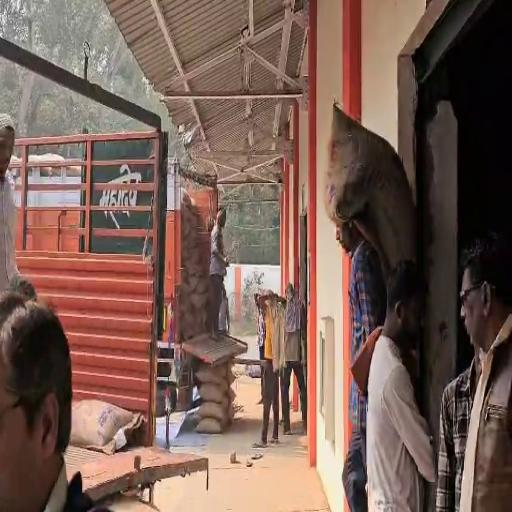bag: (322, 93, 418, 278), (71, 397, 146, 454)
